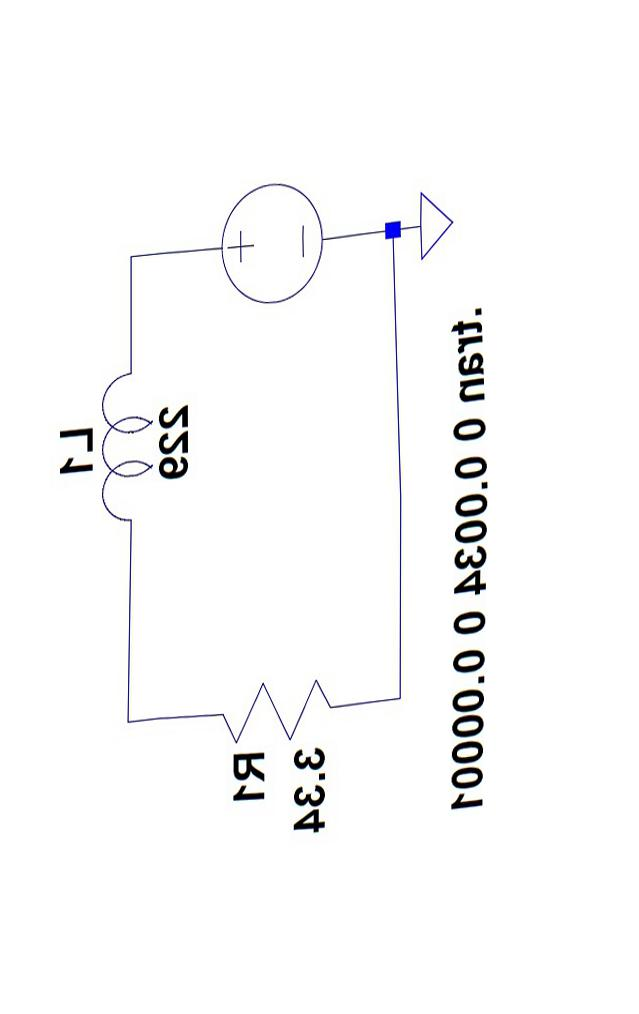Battery: (173, 167, 354, 335)
